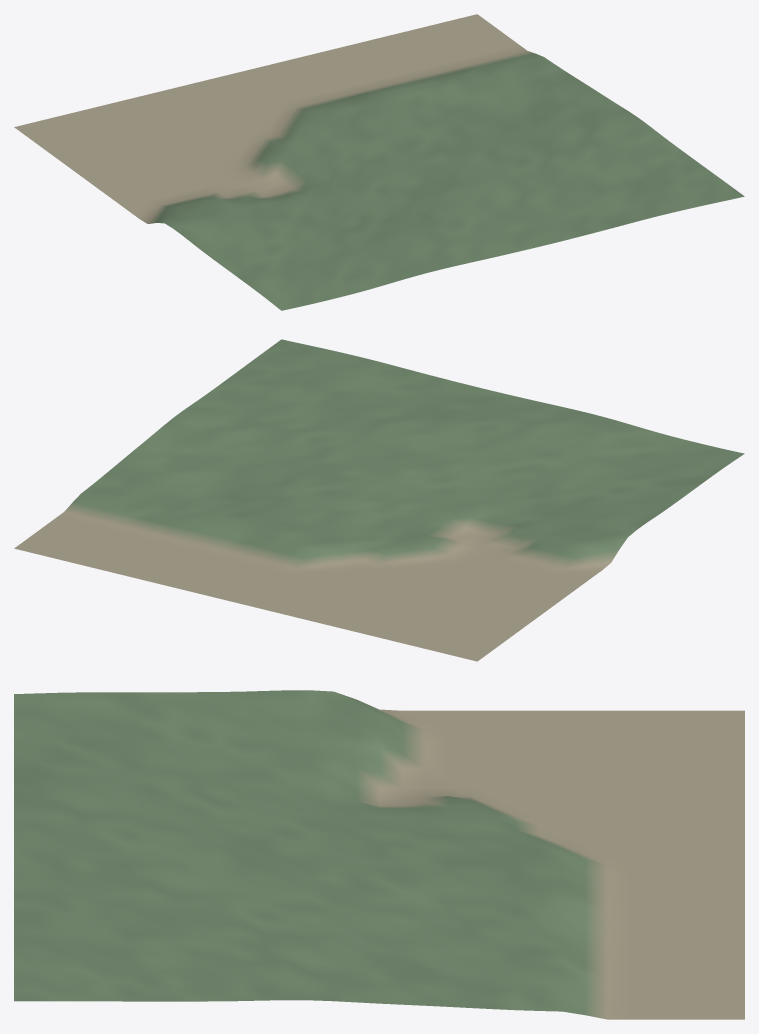
3 views of the same model, one above another, from view 1: azimuth 30°, elevation 25°; view 2: azimuth 150°, elevation 25°; view 3: azimuth 270°, elevation 25° (orthographic). The views are drawn at different scales.
Visible parts, largest first — view 1: Terrain-col; view 2: Terrain-col; view 3: Terrain-col.
Part boxes in pixels (x1,y1,x2,y2): Terrain-col: (14, 14, 744, 310); Terrain-col: (14, 339, 744, 661); Terrain-col: (14, 690, 744, 1019).
Size of the model in its own units: 256 by 7.94 by 256.
